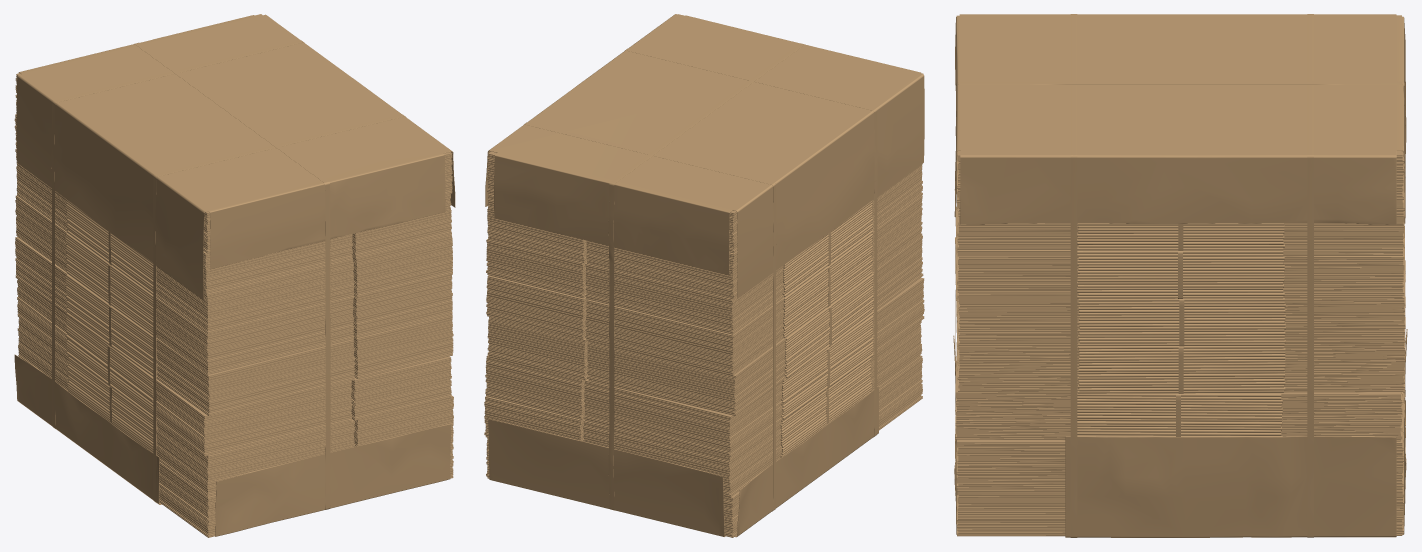
Rendered from box_cardboard_folded_brown_a06.glb.
3 renders of one model, left to right at view 1: azimuth 30°, elevation 25°; view 2: azimuth 150°, elevation 25°; view 3: azimuth 270°, elevation 25°, orthographic. The views are drawn at different scales.
Size of the model in its own units: 0.6826 by 0.8356 by 0.899.
